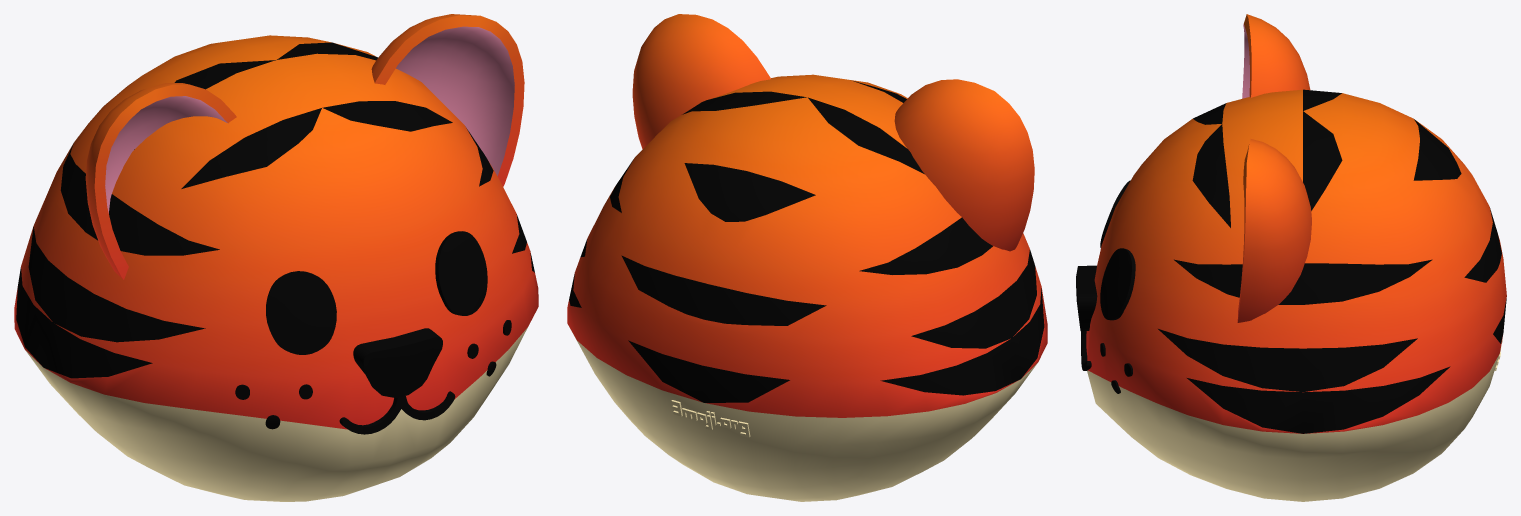
The model's file is tiger_face.glb.
3 views of the same model, side by side, from view 1: azimuth 30°, elevation 25°; view 2: azimuth 150°, elevation 25°; view 3: azimuth 270°, elevation 25° (orthographic). The views are drawn at different scales.
Visible parts, largest first — view 1: Cube.6204, Cube.6203, Circle.1866, Circle.1867, Circle.1869, Circle.1868; view 2: Cube.6204, Cube.6203; view 3: Cube.6204, Cube.6203, Circle.1866, Circle.1867.
Part boxes in pixels (x1=…): Cube.6204: x1=14, y1=35, x2=538, y2=501; Cube.6203: x1=85, y1=14, x2=524, y2=279; Circle.1866: x1=266, y1=231, x2=487, y2=354; Circle.1867: x1=353, y1=328, x2=442, y2=397; Circle.1869: x1=339, y1=391, x2=455, y2=434; Circle.1868: x1=235, y1=320, x2=511, y2=429; Cube.6204: x1=567, y1=74, x2=1047, y2=501; Cube.6203: x1=632, y1=14, x2=1034, y2=251; Cube.6204: x1=1086, y1=89, x2=1506, y2=501; Cube.6203: x1=1237, y1=14, x2=1311, y2=322; Circle.1866: x1=1100, y1=180, x2=1135, y2=320; Circle.1867: x1=1076, y1=265, x2=1097, y2=331.
Bounding box in the file's own units: 2.16 × 1.98 × 1.95.
1 material, 1 textured.
